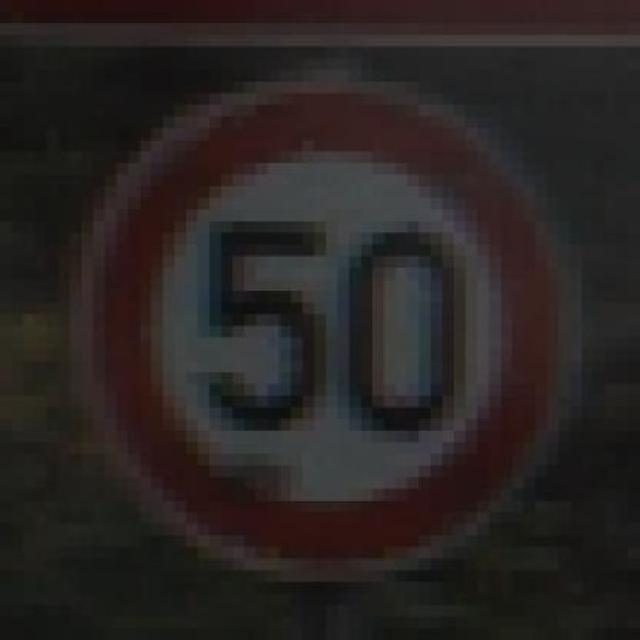forb_speed_over_50: (88, 95, 557, 552)
